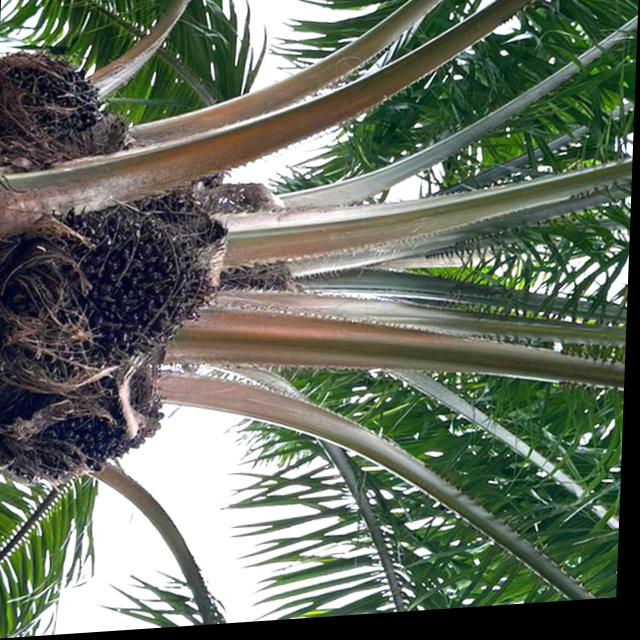almost: (0, 193, 228, 389)
